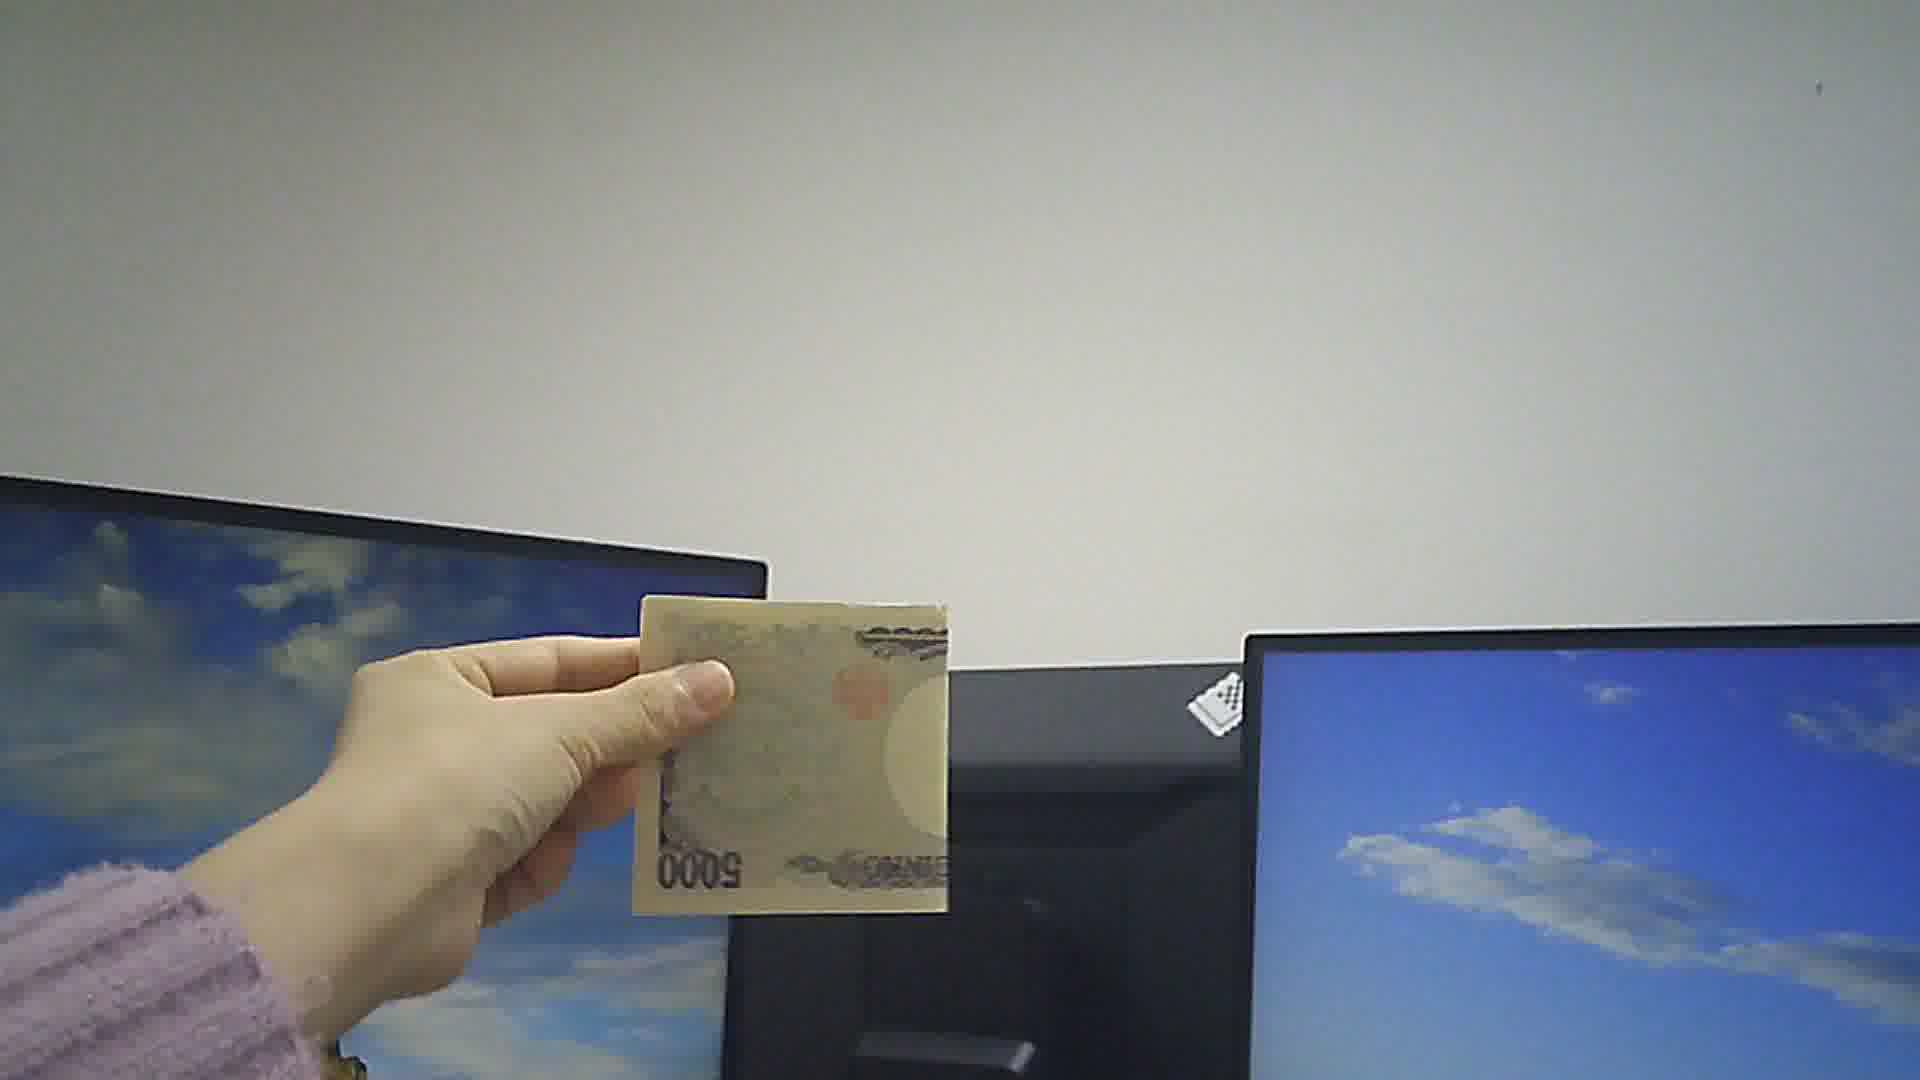5,000 Yen: (617, 579, 956, 915)
